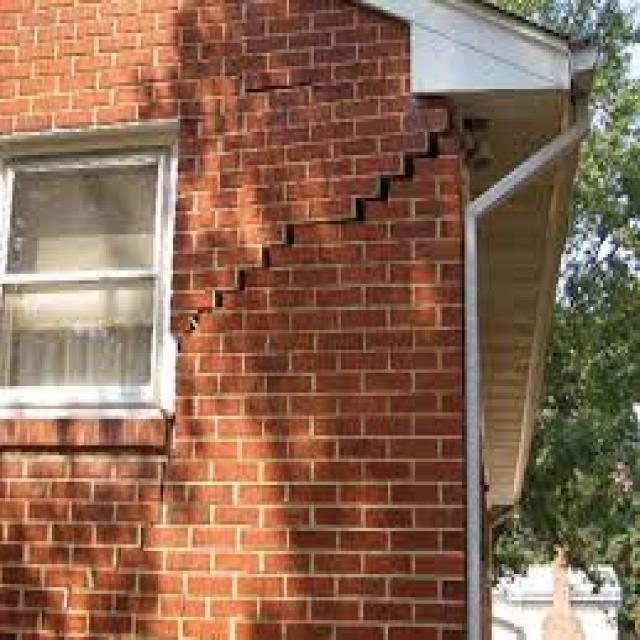Crack: (171, 99, 452, 340)
